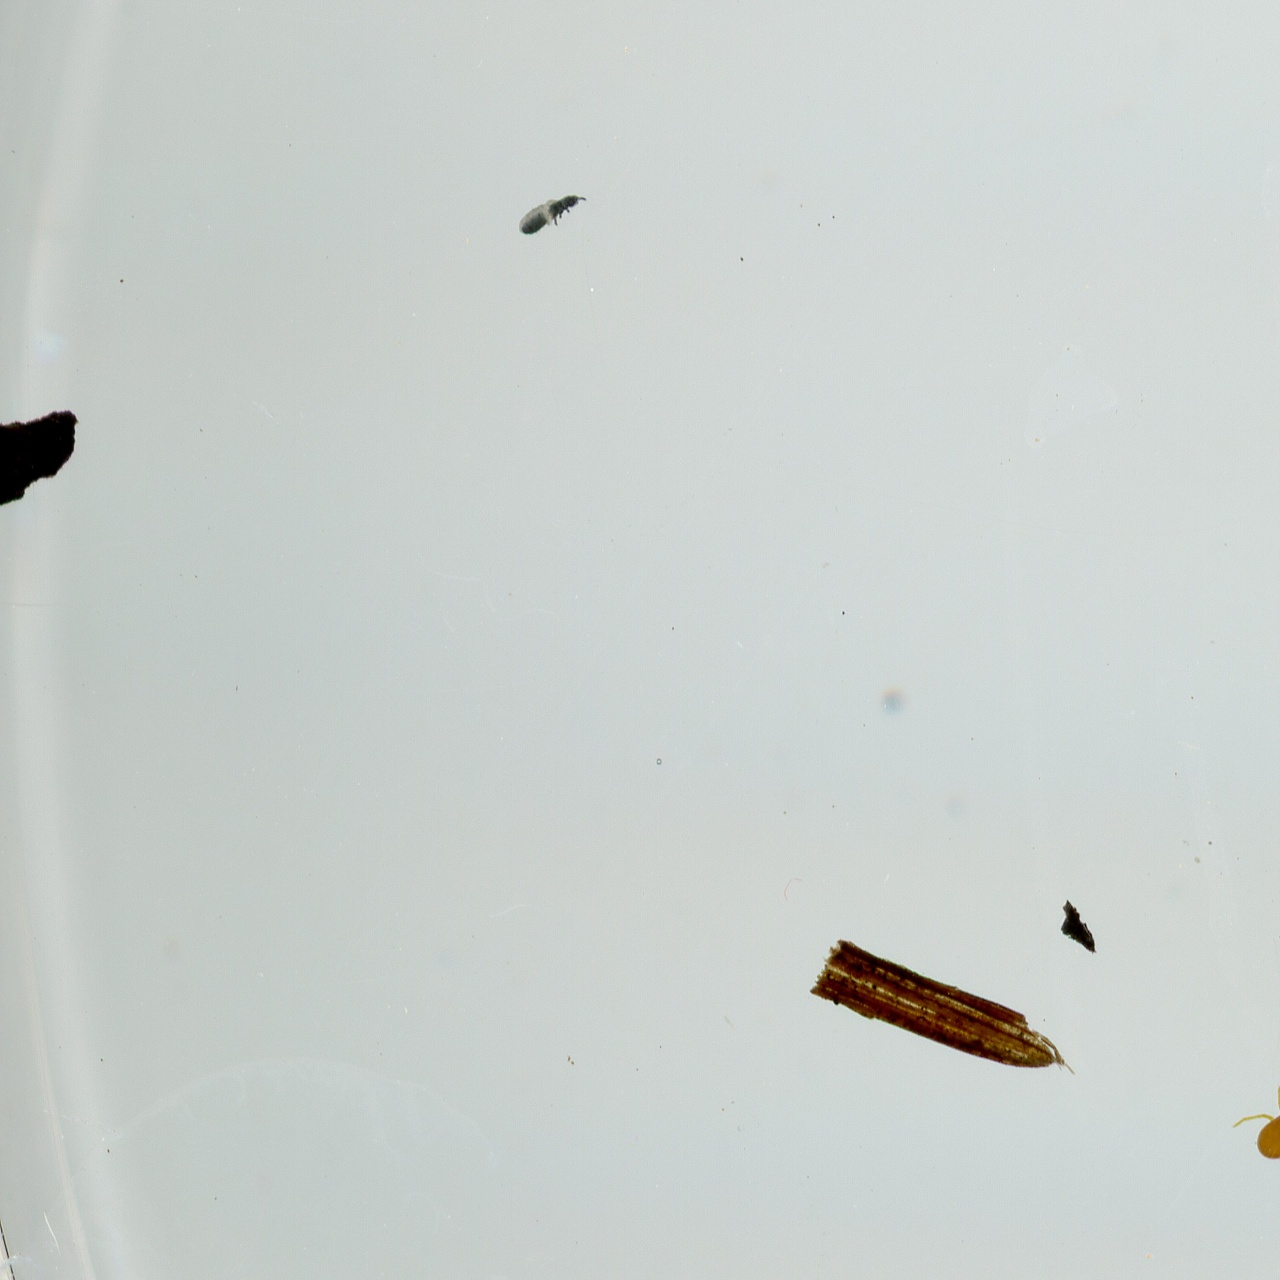arthropod: (1230, 1080, 1280, 1170), (512, 189, 588, 244)
